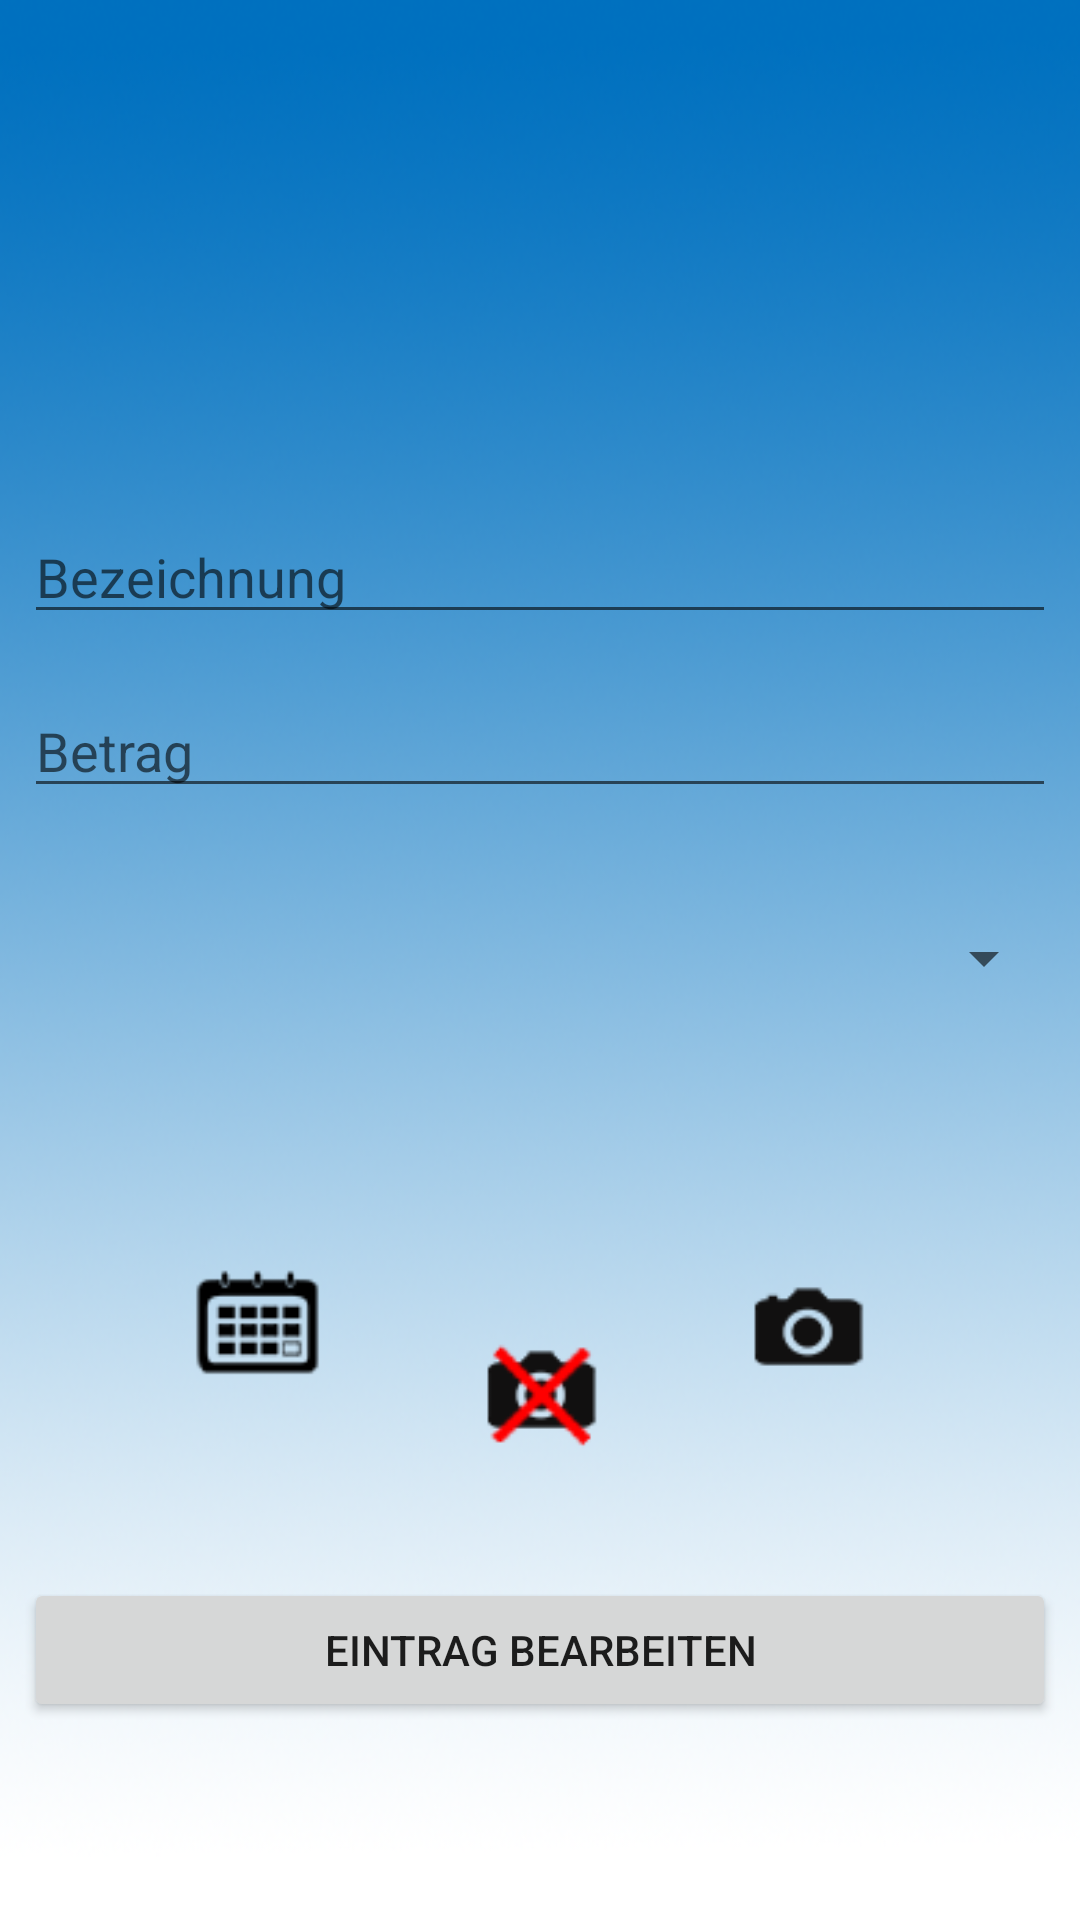

Point at icon controls on the screen. Image size 1080x1920, points as point (x, y).
cameradeleteicon: point (542, 1395)
kalendericon: point (240, 1316)
